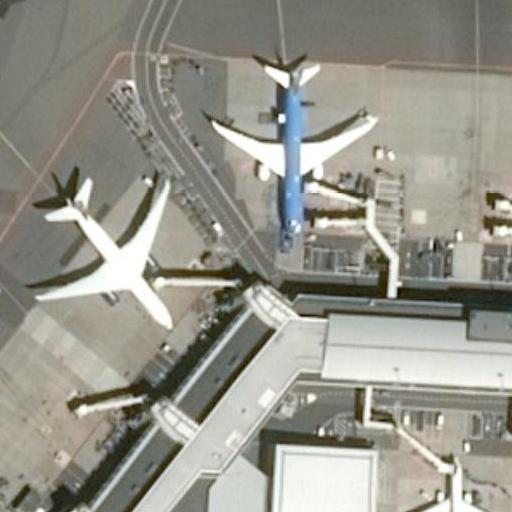Aircraft: (203, 55, 383, 237), (22, 173, 183, 336), (404, 452, 499, 512), (501, 0, 512, 35)
